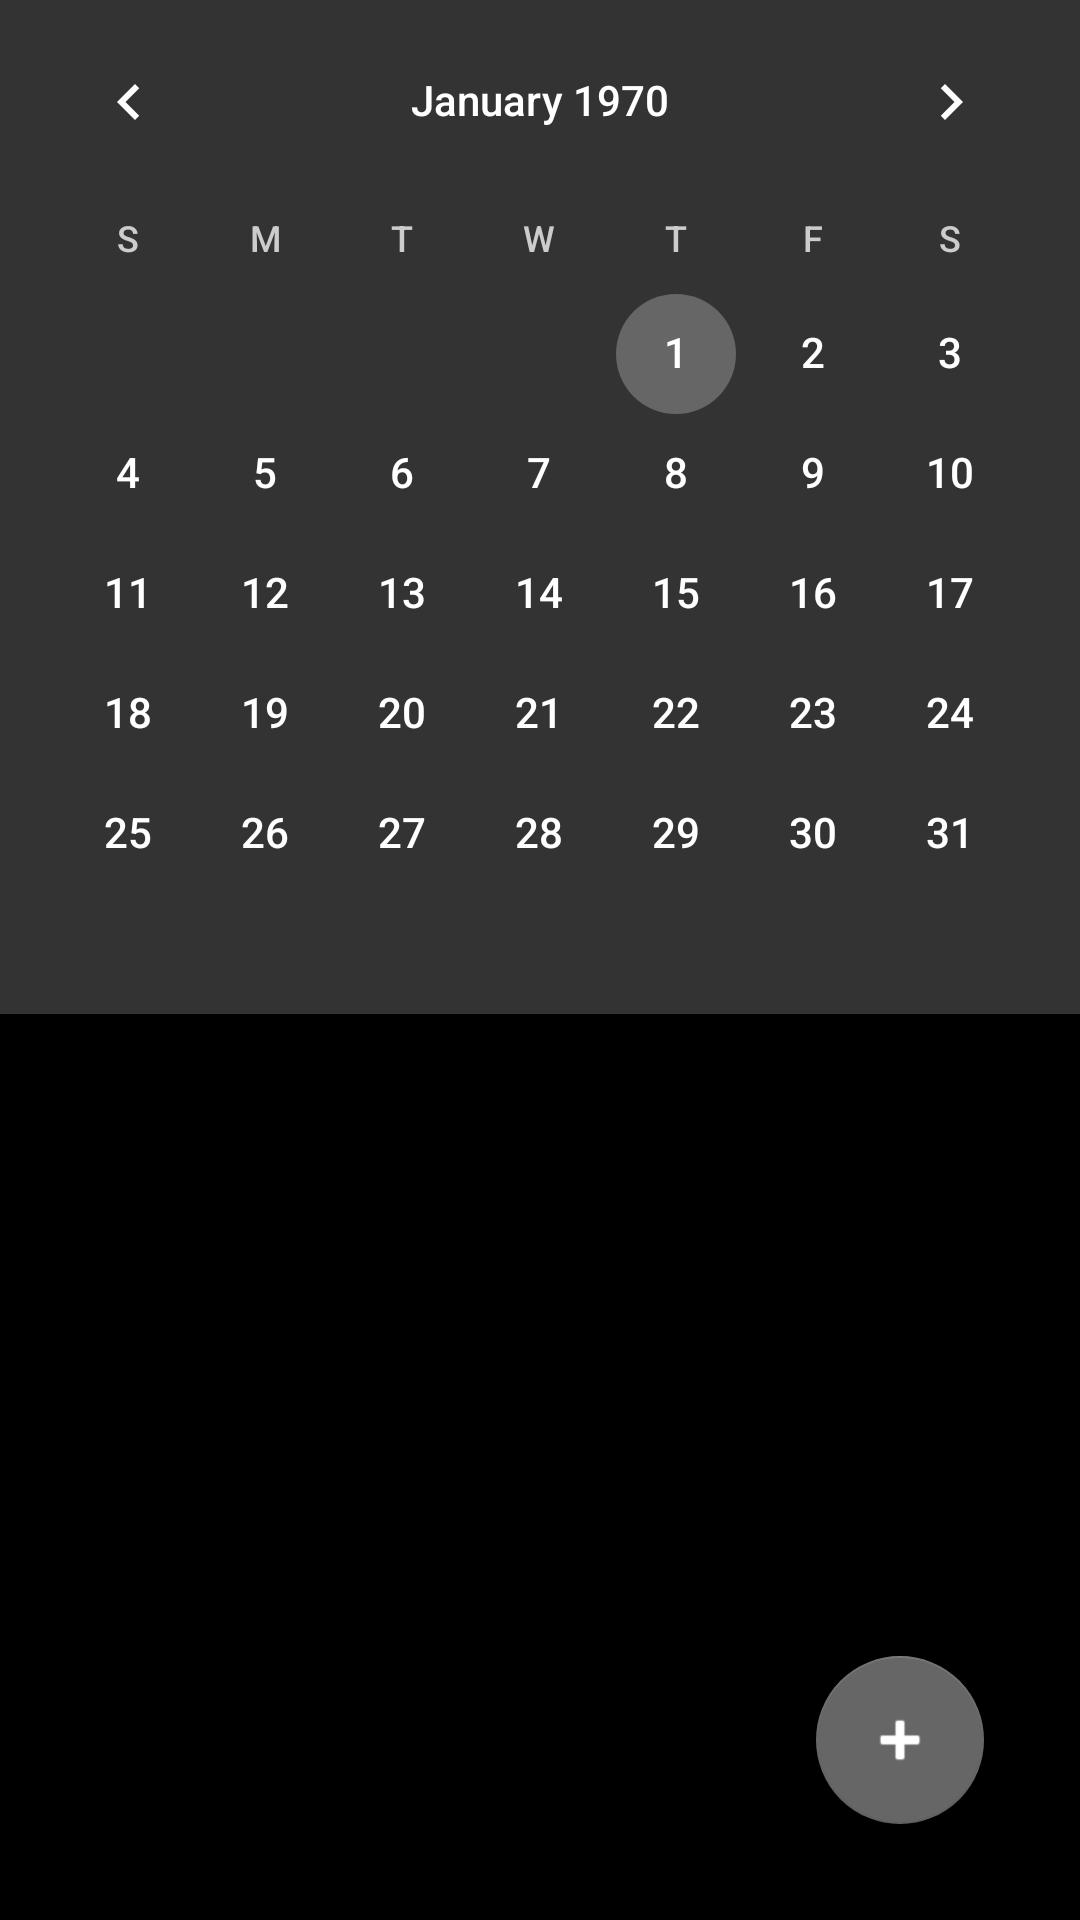

Screen size 1080px x 1920px. Icon name, then its box in pixels as (x1, y1, x2, y2):
일정 추가: (816, 1656, 984, 1824)
